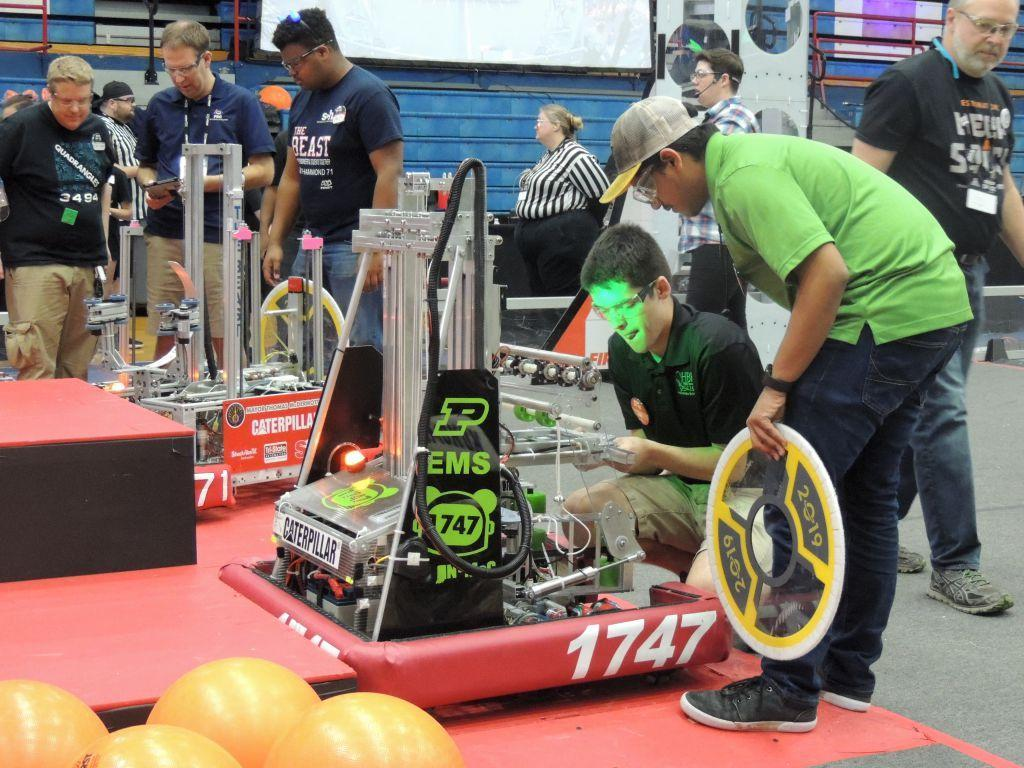robot: (220, 157, 739, 727), (97, 139, 400, 535)
